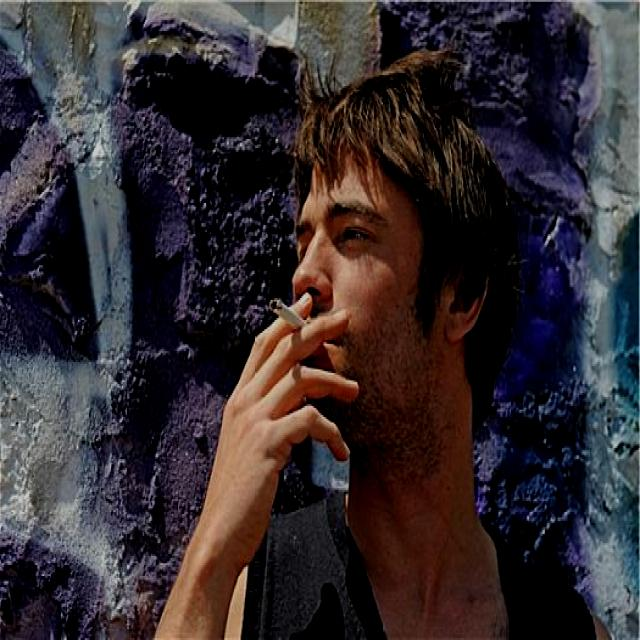smoke: (260, 288, 304, 337)
